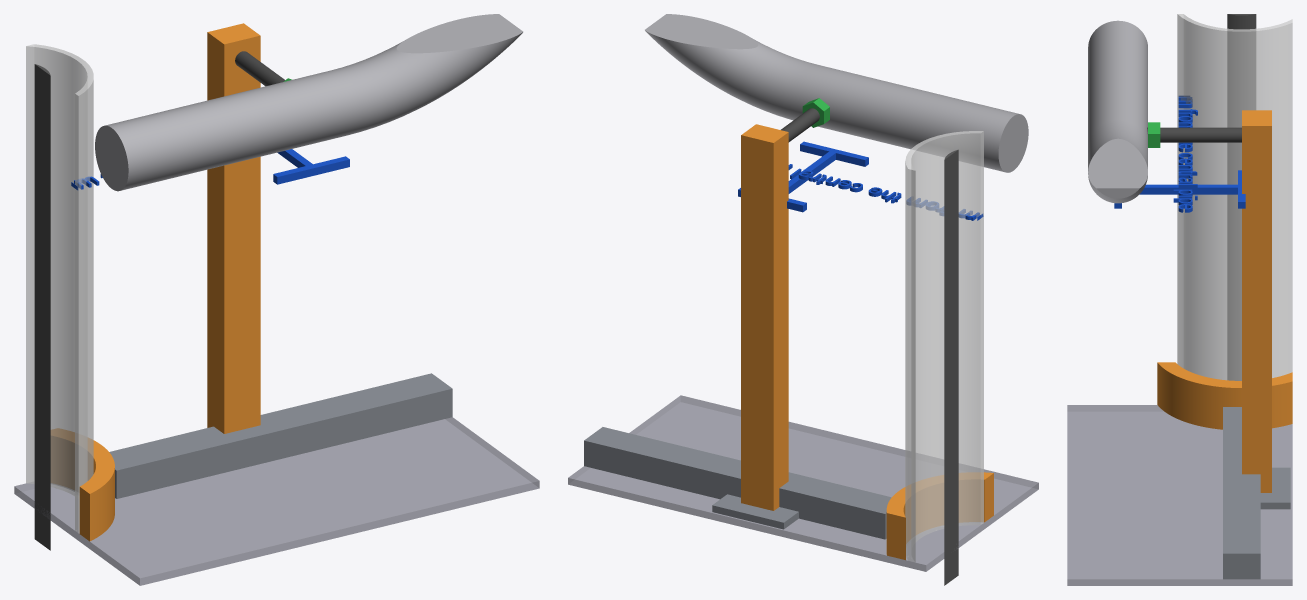
File: track-supports-bottom-v2.glb
3 views of the same model, side by side, from view 1: azimuth 30°, elevation 25°; view 2: azimuth 150°, elevation 25°; view 3: azimuth 270°, elevation 25° (orthographic). The views are drawn at different scales.
Parts seen in each view (by area): view 1: lid, track_loop, growing_pipe, bottom_support_posts, base_bar_and_lid_plates, spine_tube, socket, track_offset_dimension, support_m8_rods; view 2: growing_pipe, track_loop, lid, bottom_support_posts, base_bar_and_lid_plates, spine_tube, socket, track_offset_dimension, bottom_support_base_plates, support_m8_rods; view 3: lid, growing_pipe, bottom_support_posts, track_loop, spine_tube, base_bar_and_lid_plates, socket, track_offset_dimension, support_m8_rods, bottom_support_base_plates, support_lock_nuts.
Boxes of the visible parts, x1,y1,x2,y2 form: lid: (14,417,539,585); track_loop: (95,14,523,191); growing_pipe: (26,44,93,532); bottom_support_posts: (207,23,260,433); base_bar_and_lid_plates: (109,373,452,498); spine_tube: (34,64,50,550); socket: (51,428,114,541); track_offset_dimension: (71,149,349,190); support_m8_rods: (235,51,285,86); growing_pipe: (905,131,983,562); track_loop: (645,14,1028,172); lid: (568,395,1038,571); bottom_support_posts: (741,124,788,510); base_bar_and_lid_plates: (584,427,891,539); spine_tube: (944,149,958,585); socket: (886,472,993,560); track_offset_dimension: (738,141,983,220); bottom_support_base_plates: (712,494,798,529); support_m8_rods: (781,108,819,142); lid: (1067,405,1292,585); growing_pipe: (1177,14,1292,380); bottom_support_posts: (1242,110,1271,492); track_loop: (1088,20,1147,203); spine_tube: (1227,14,1256,380); base_bar_and_lid_plates: (1223,407,1260,579); socket: (1157,362,1292,429); track_offset_dimension: (1114,95,1245,212); support_m8_rods: (1147,127,1241,142); bottom_support_base_plates: (1260,467,1290,509); support_lock_nuts: (1148,122,1160,147).
Bounding box in the file's own units: 220 × 250 × 120.
